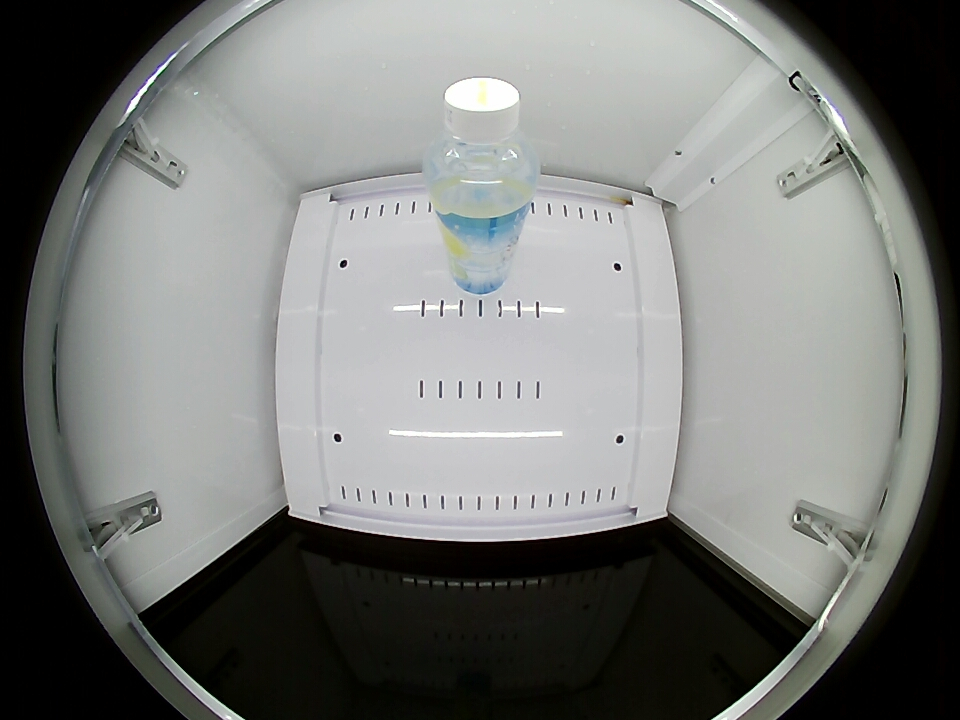qinningshui: (423, 77, 540, 217)
